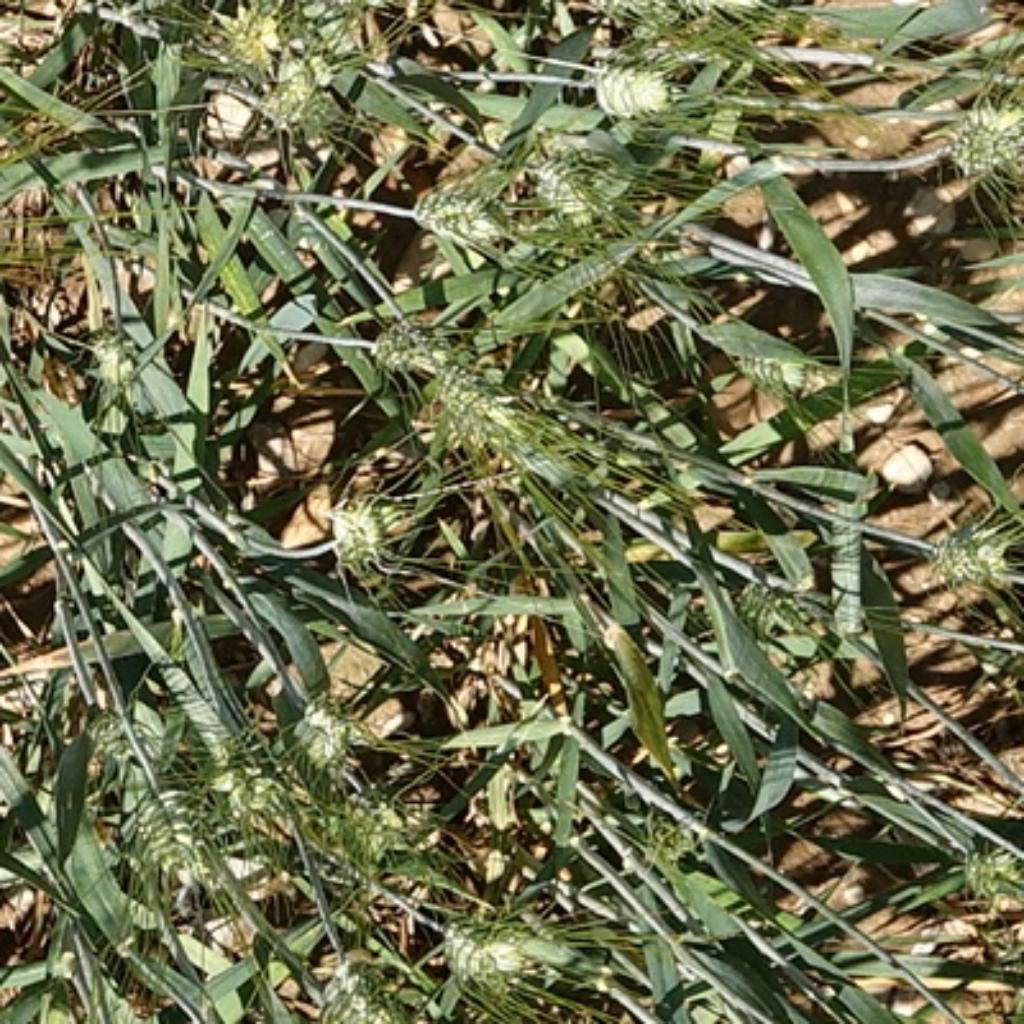0-0: (129, 781, 251, 927), (419, 348, 545, 460), (522, 120, 637, 227), (304, 929, 430, 1021), (337, 775, 440, 872), (709, 307, 821, 394), (75, 675, 166, 781), (913, 499, 1018, 588), (405, 172, 517, 245), (438, 921, 541, 999), (472, 914, 584, 985), (936, 84, 1024, 174), (253, 46, 343, 133), (724, 563, 826, 637), (279, 686, 360, 775), (363, 302, 460, 373), (320, 485, 399, 569), (583, 56, 677, 123), (227, 744, 302, 826), (204, 0, 284, 71), (79, 309, 148, 391), (947, 832, 1021, 901)
